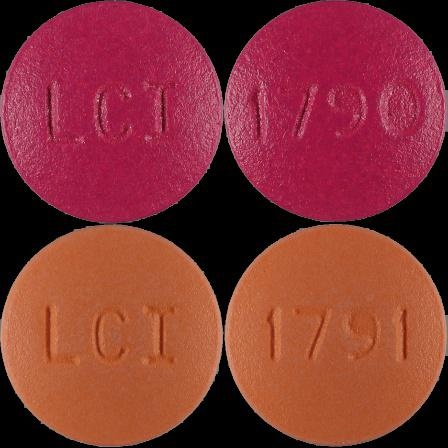0527-1790: (0, 0, 224, 224)
